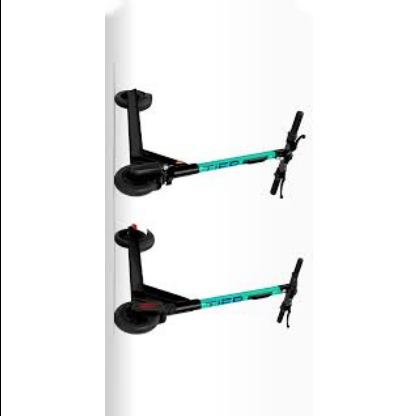bike: (111, 88, 308, 339)
